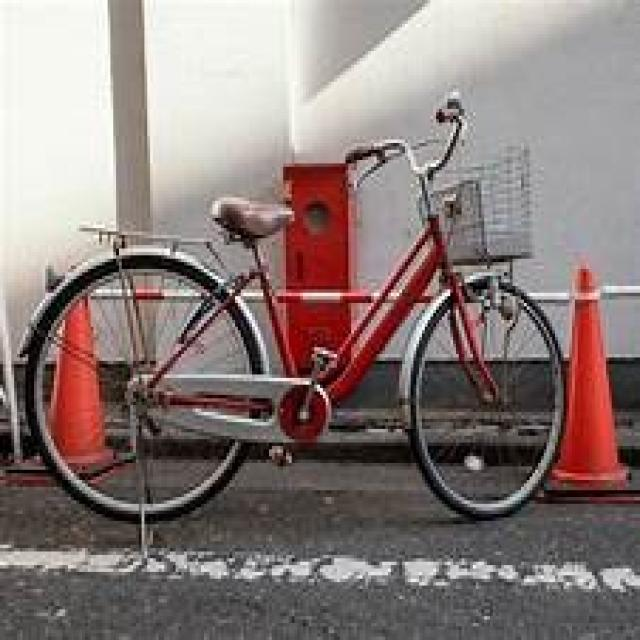basket: (407, 142, 544, 268)
